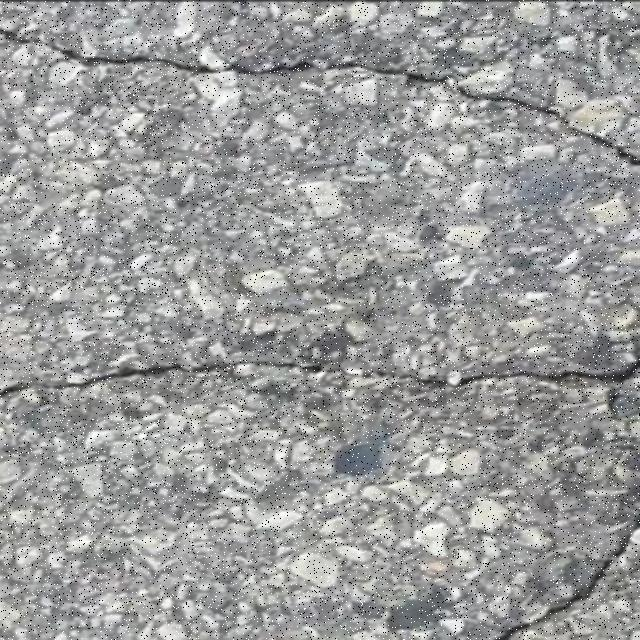Crack: (4, 32, 469, 99), (494, 515, 639, 640), (482, 100, 640, 170), (0, 361, 271, 400), (529, 355, 639, 421), (274, 360, 507, 388), (620, 430, 639, 468)
